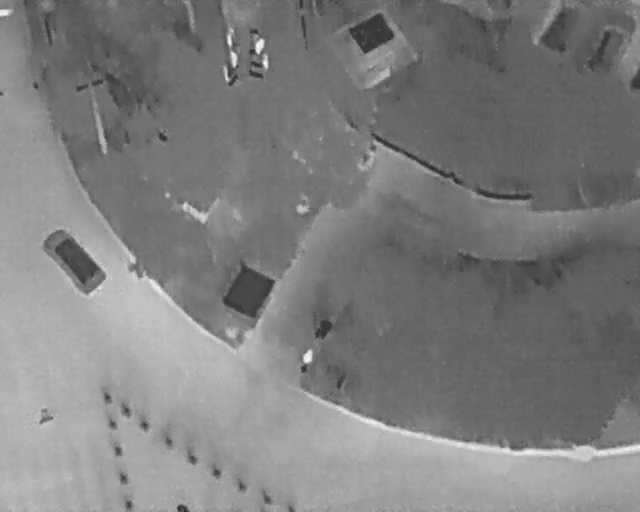Car: (35, 220, 112, 300), (579, 4, 639, 83), (531, 0, 585, 55)
